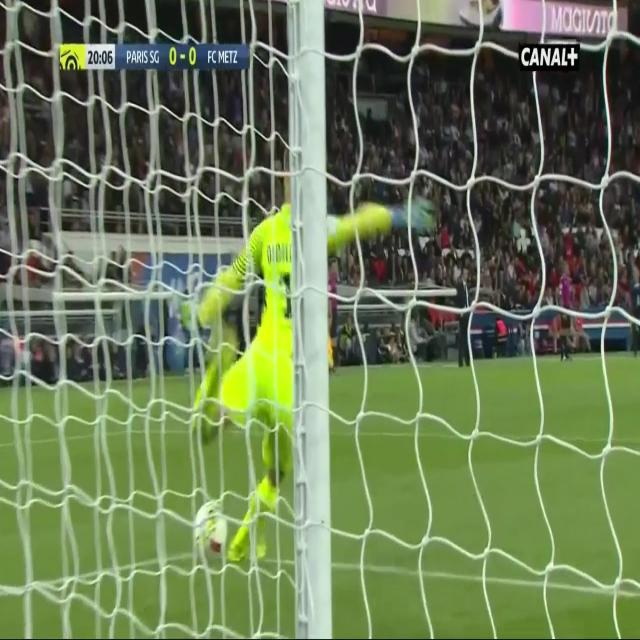Ball: (190, 496, 230, 564)
Goalkeeper: (192, 155, 429, 560)
Referee: (557, 260, 575, 364)
